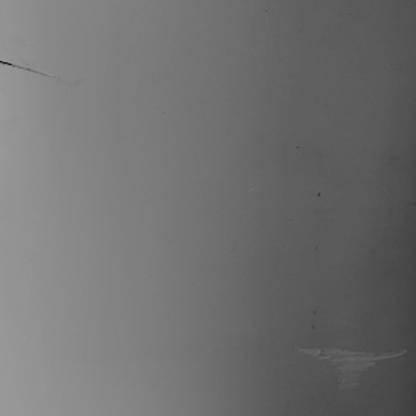sunshang: (301, 345, 406, 394), (1, 55, 61, 85)
